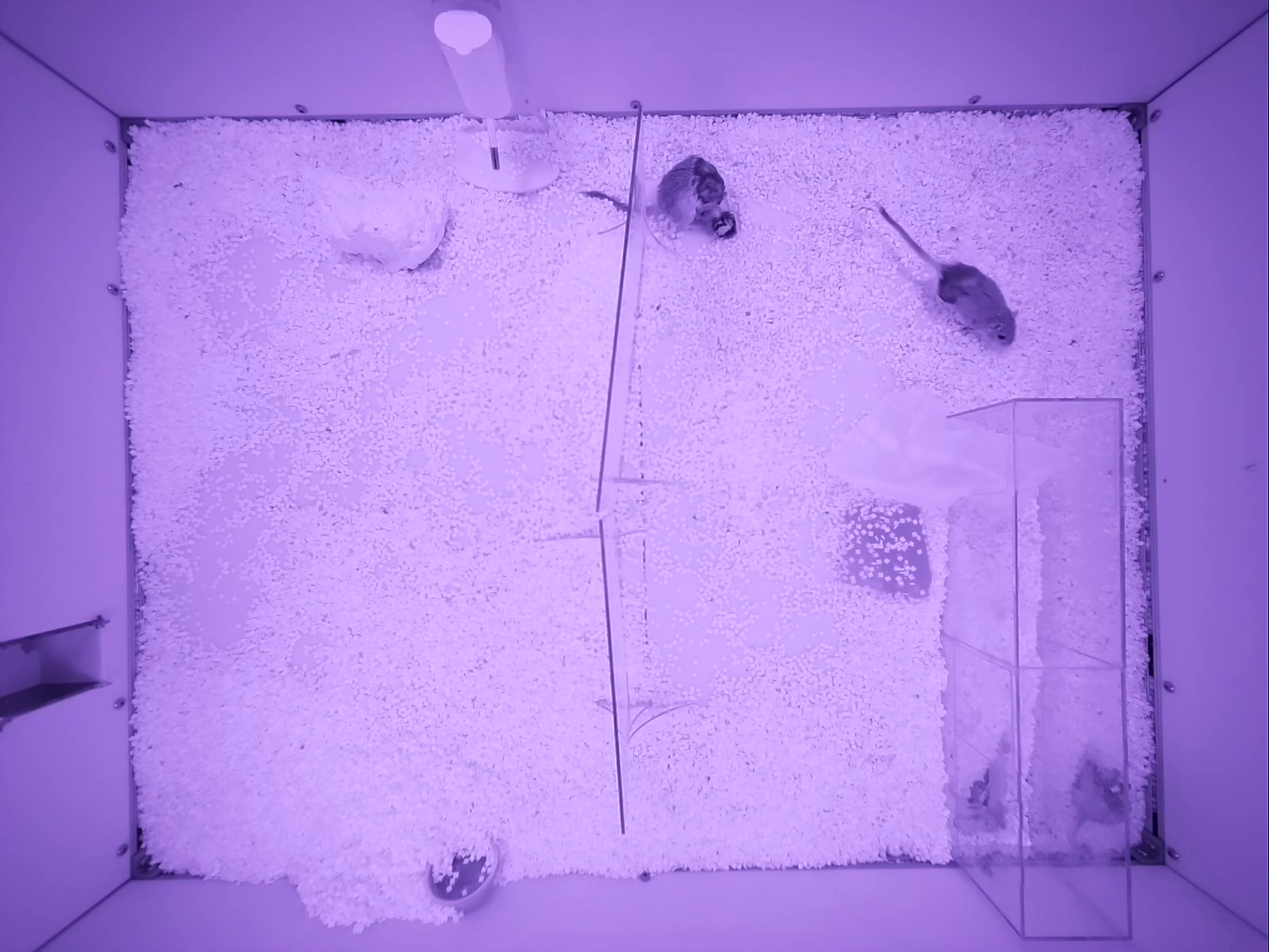adult_back: (876, 204, 1015, 344), (649, 155, 737, 237), (1069, 756, 1127, 855)
